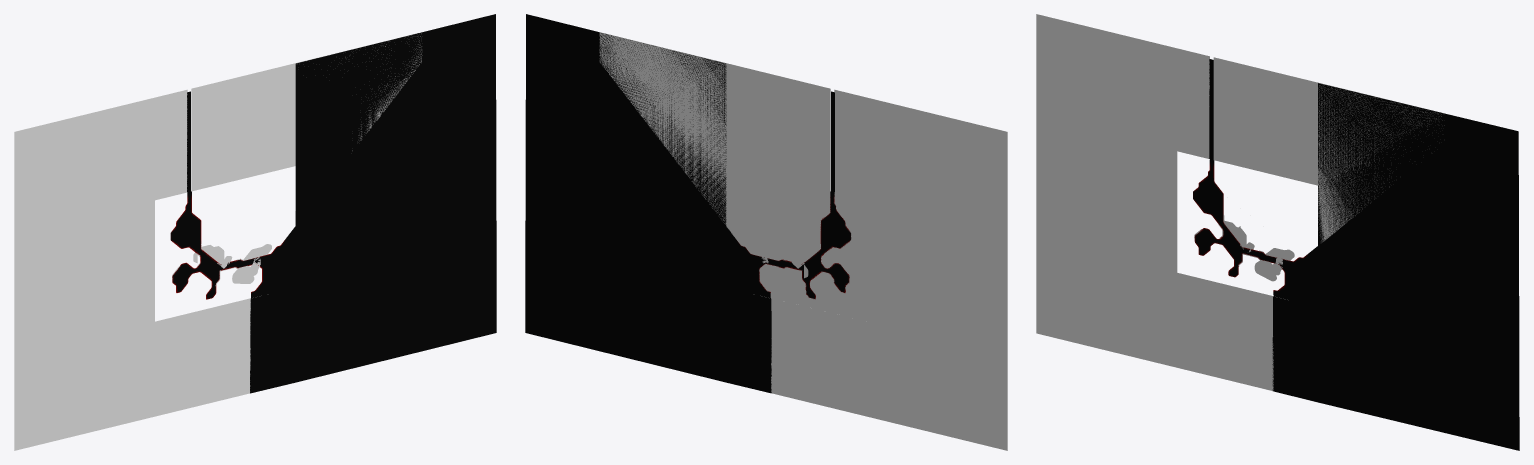
Rendered from Lisbon.glb.
The picture shows the model from 3 angles, left to right: view 1: azimuth 30°, elevation 25°; view 2: azimuth 150°, elevation 25°; view 3: azimuth 330°, elevation 25°; orthographic projection.
Visible parts, largest first — view 1: MSH_MAP_Lisbon_Water_Extended, MSH_MAP_Lisbon_Land_Extended, MSH_MAP_Lisbon_Water, MSH_MAP_Lisbon_Grass; view 2: MSH_MAP_Lisbon_Land_Extended, MSH_MAP_Lisbon_Water_Extended, MSH_MAP_Lisbon_Land, MSH_MAP_Lisbon_Water, MSH_MAP_Lisbon_Grass; view 3: MSH_MAP_Lisbon_Land_Extended, MSH_MAP_Lisbon_Water_Extended, MSH_MAP_Lisbon_Water, MSH_MAP_Lisbon_Grass.
Part boxes in pixels (x1,y1,x2,y2): MSH_MAP_Lisbon_Water_Extended: (187, 14, 496, 393); MSH_MAP_Lisbon_Land_Extended: (14, 33, 422, 450); MSH_MAP_Lisbon_Water: (170, 191, 295, 299); MSH_MAP_Lisbon_Grass: (201, 244, 271, 283); MSH_MAP_Lisbon_Land_Extended: (599, 32, 1007, 450); MSH_MAP_Lisbon_Water_Extended: (525, 14, 834, 393); MSH_MAP_Lisbon_Land: (726, 166, 866, 321); MSH_MAP_Lisbon_Water: (725, 191, 851, 299); MSH_MAP_Lisbon_Grass: (750, 221, 888, 304); MSH_MAP_Lisbon_Land_Extended: (1036, 14, 1444, 390); MSH_MAP_Lisbon_Water_Extended: (1209, 59, 1519, 450); MSH_MAP_Lisbon_Water: (1193, 159, 1318, 307); MSH_MAP_Lisbon_Grass: (1223, 220, 1294, 281).
Size of the model in its own units: 517 by 327 by 19.06.
Materials: 5 (2 with a texture image).
